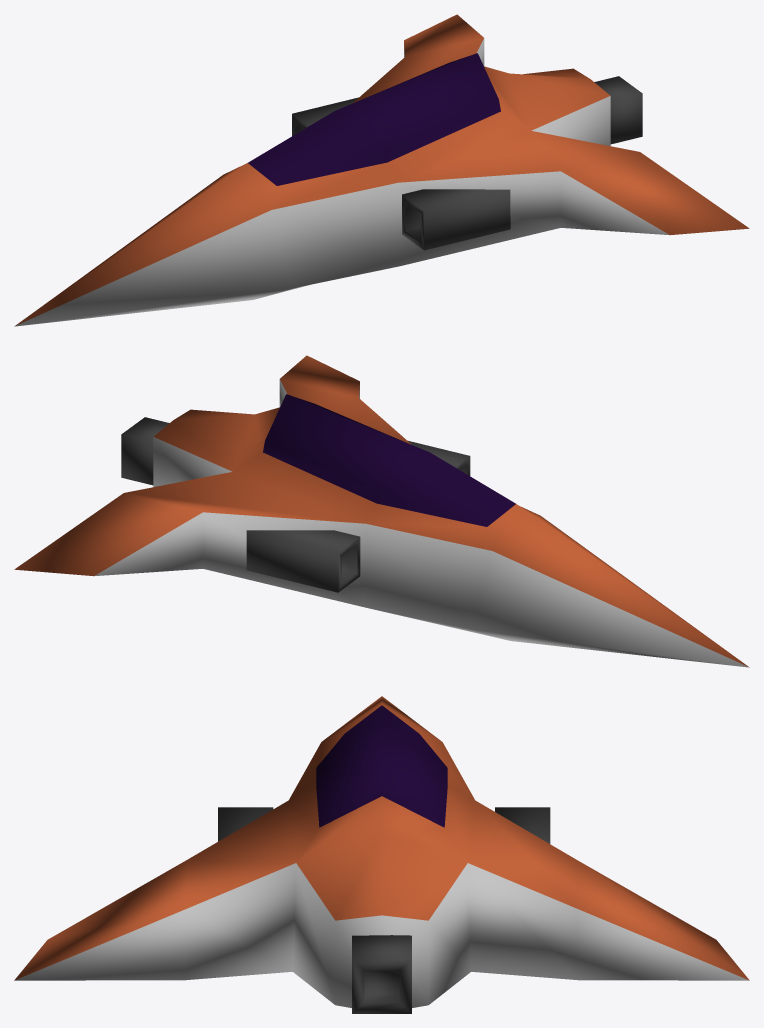
Rendered from lowpolyship.glb.
The picture shows the model from 3 angles, top to bottom: view 1: azimuth 30°, elevation 25°; view 2: azimuth 150°, elevation 25°; view 3: azimuth 270°, elevation 25°; orthographic projection. The views are drawn at different scales.
Parts seen in each view (by area): view 1: Ship; view 2: Ship; view 3: Ship.
Boxes of the visible parts, bbox=[...] form: Ship: bbox=[14, 14, 749, 326]; Ship: bbox=[14, 355, 749, 667]; Ship: bbox=[14, 696, 749, 1013].
Bounding box in the file's own units: 6.46 × 1.92 × 5.31.
